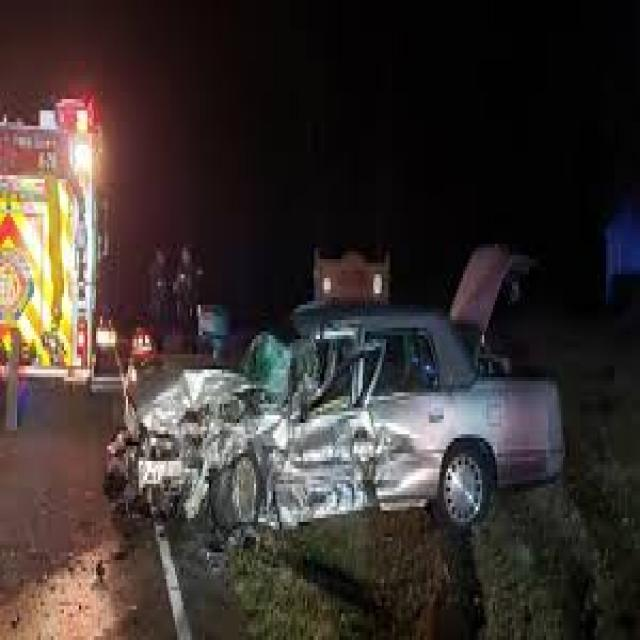accident: (112, 300, 584, 534)
